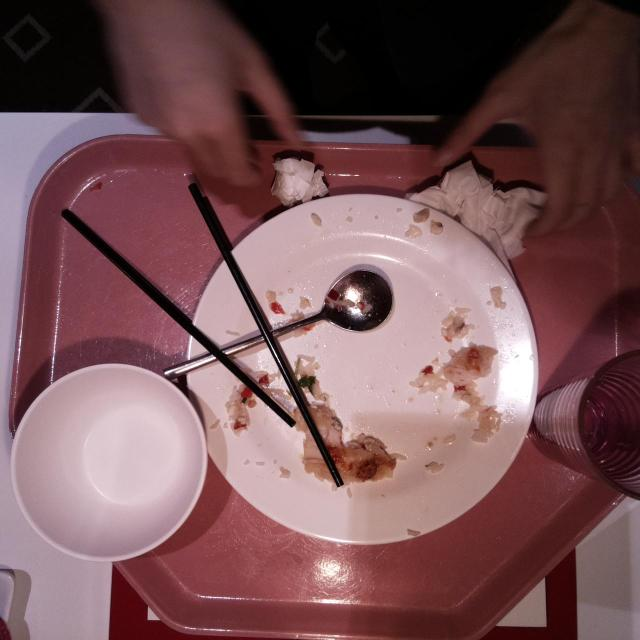Fish: (304, 442, 396, 486), (291, 407, 343, 461), (443, 345, 495, 385)
Rice: (466, 404, 502, 444)
